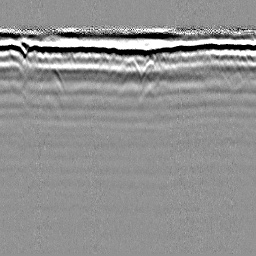cavity: (115, 56, 141, 84)
